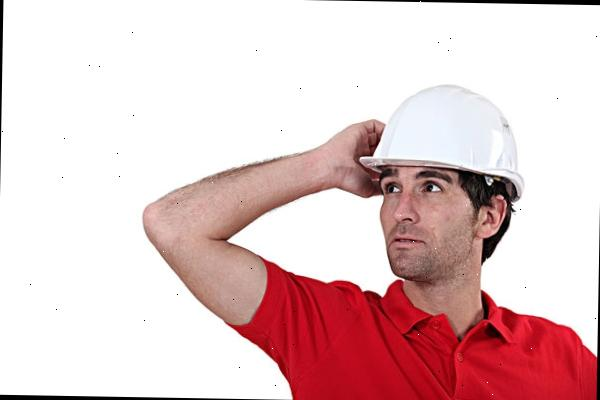helmet: (360, 81, 532, 196)
